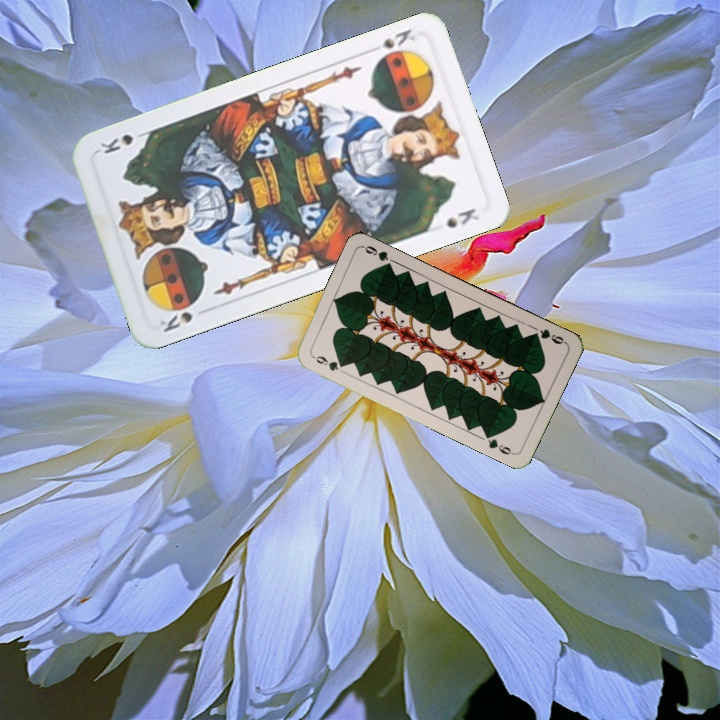G9: (528, 325, 569, 347), (308, 351, 347, 373)
SK: (364, 24, 418, 56), (155, 307, 196, 335)
